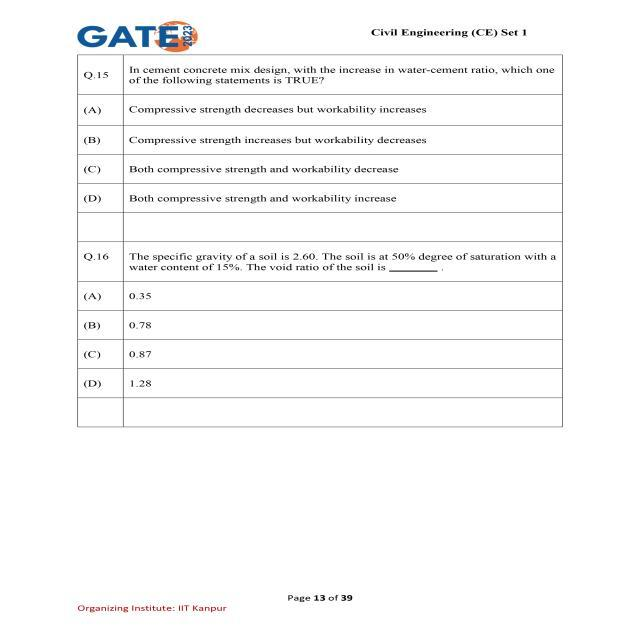Answer_Block: (77, 96, 560, 213), (79, 282, 562, 398)
Question_Answer_Block: (79, 55, 562, 212), (78, 242, 562, 398)
Question_Block: (79, 54, 562, 92), (79, 242, 558, 280)
Question_Paper_Area: (79, 55, 562, 428)
